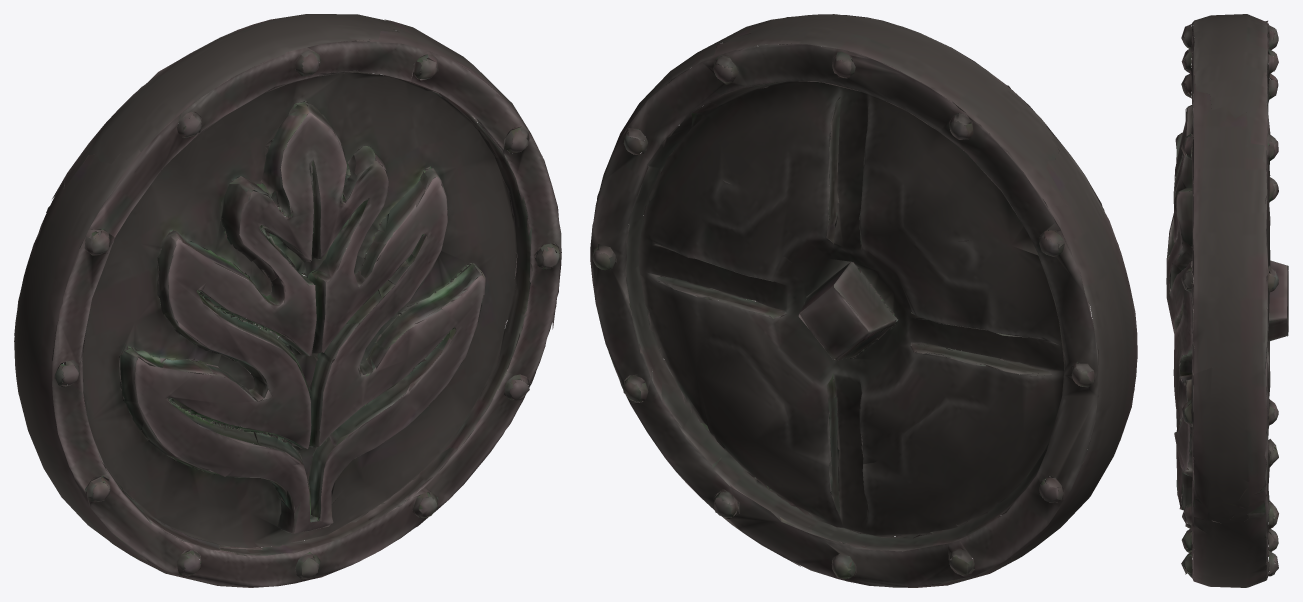
Rendered from piece_chest_leaf.glb.
3 views of the same model, side by side, from view 1: azimuth 30°, elevation 25°; view 2: azimuth 150°, elevation 25°; view 3: azimuth 270°, elevation 25° (orthographic). The views are drawn at different scales.
Parts seen in each view (by area): view 1: trait_chest_leaf; view 2: trait_chest_leaf; view 3: trait_chest_leaf.
Part boxes in pixels (x1,y1,x2,y2): trait_chest_leaf: (14,14,561,587); trait_chest_leaf: (590,14,1137,587); trait_chest_leaf: (1166,14,1288,587).
Bounding box in the file's own units: 0.2104 × 0.2105 × 0.0447.
Materials: 1 (1 with a texture image).
